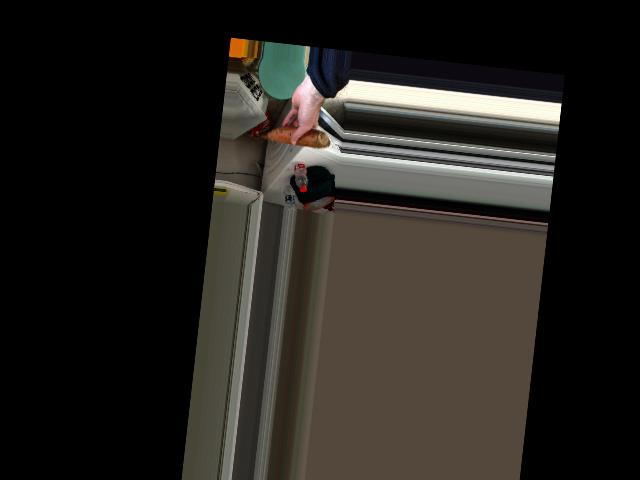sweet_potato: (263, 123, 324, 148)
